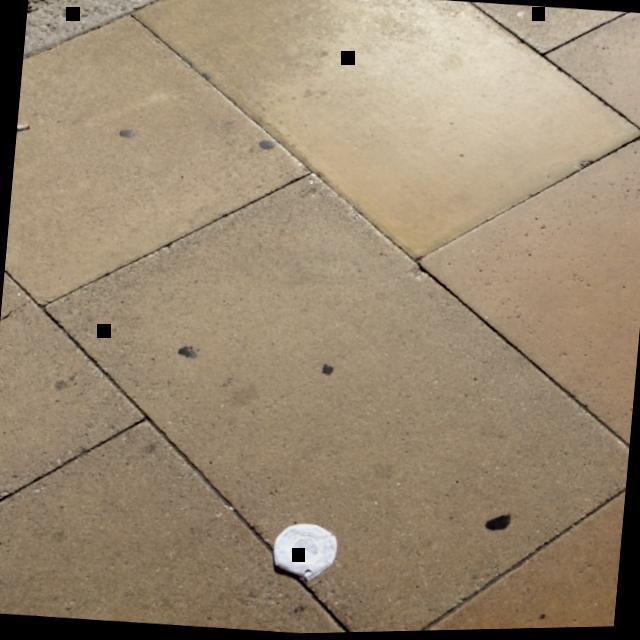Cigarette: (15, 123, 28, 131)
Plastic lid: (272, 525, 336, 582)
